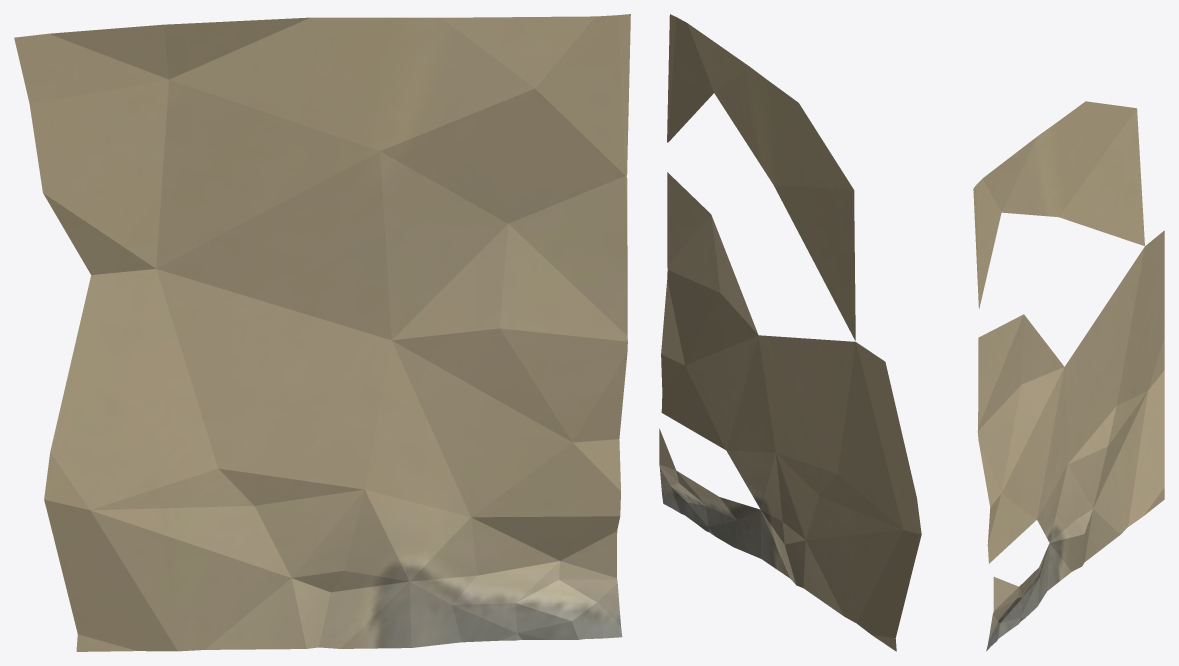
3 views of the same model, side by side, from view 1: azimuth 30°, elevation 25°; view 2: azimuth 150°, elevation 25°; view 3: azimuth 270°, elevation 25° (orthographic). The views are drawn at different scales.
Size of the model in its own units: 0.6777 by 0.8374 by 0.3133.
Materials: 2 (2 with a texture image).
